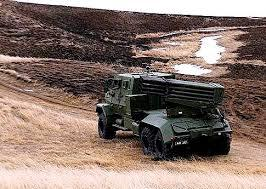MIL_SAM_TEL: (94, 69, 232, 158)
